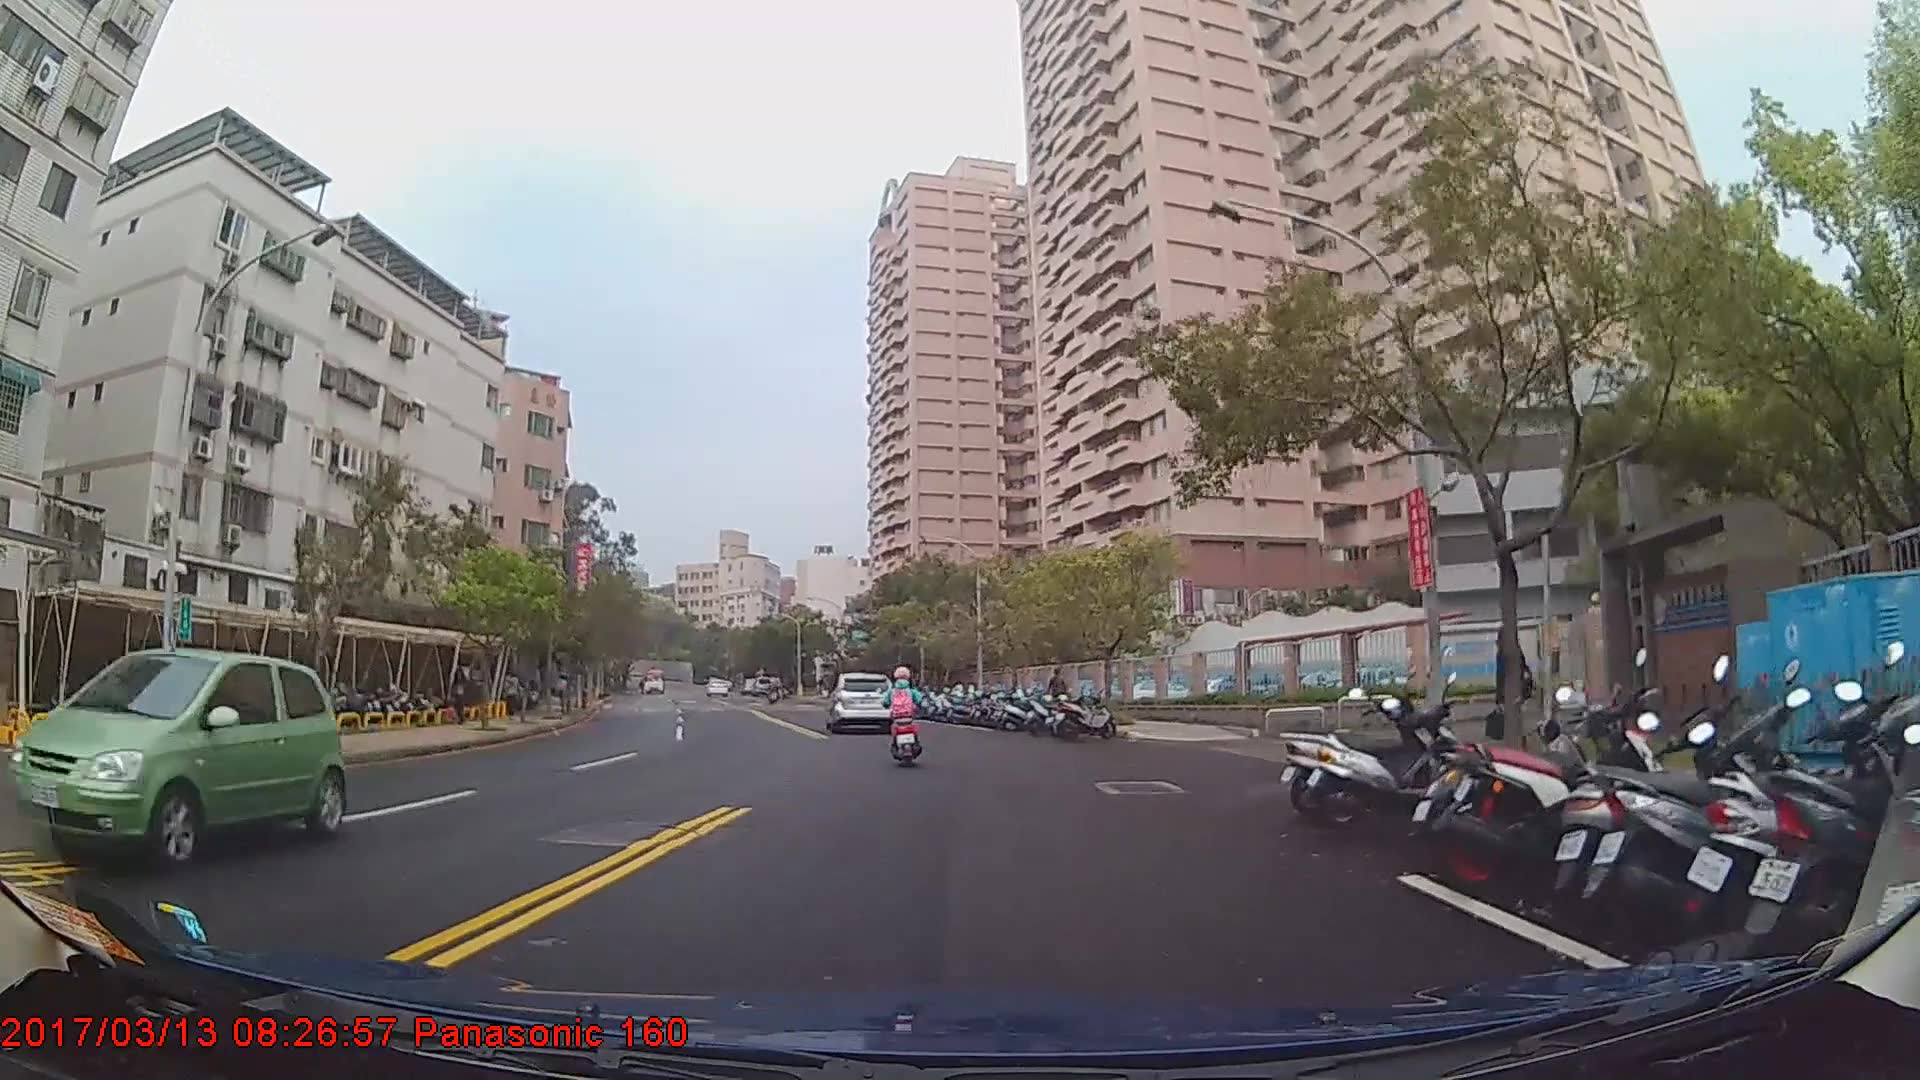pedestrian: (1493, 625, 1532, 768), (1050, 669, 1070, 725)
rider: (882, 669, 926, 766)
vehicle: (4, 645, 348, 872), (824, 673, 896, 738), (640, 666, 667, 694)
